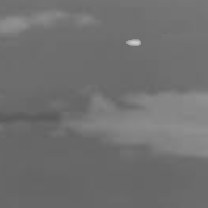Target: (125, 38, 142, 47)
